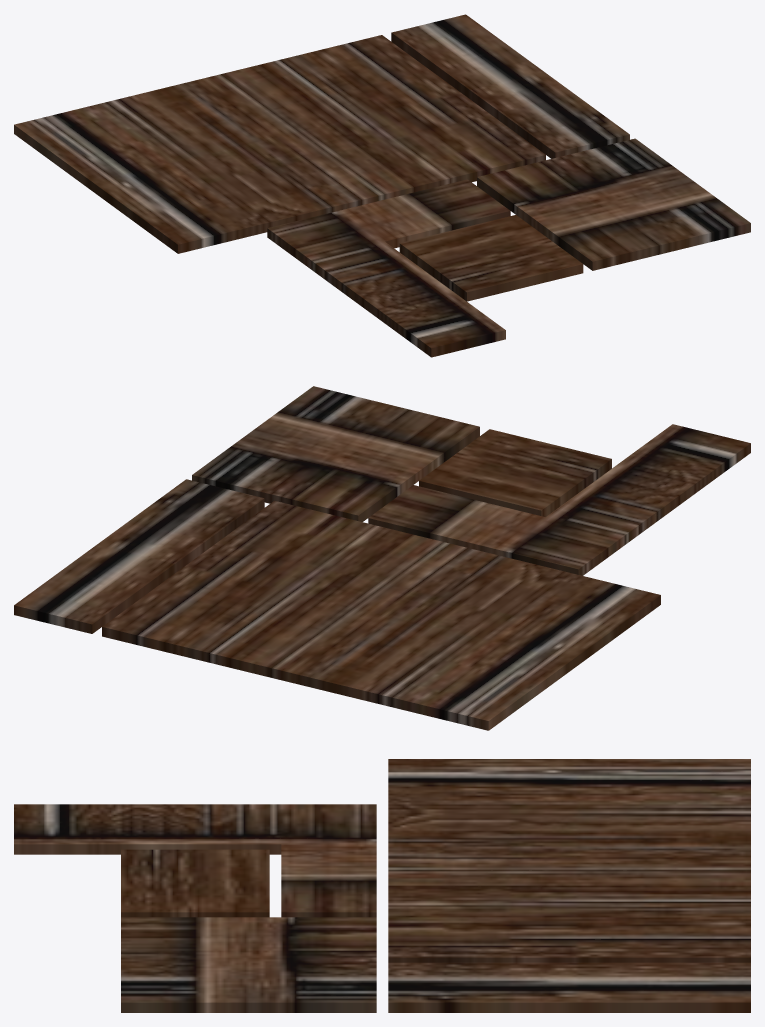
Rendered from HouseRoof.fbx.
3 renders of one model, top to bottom at view 1: azimuth 30°, elevation 25°; view 2: azimuth 150°, elevation 25°; view 3: azimuth 270°, elevation 25°, orthographic. The views are drawn at different scales.
Visible parts, largest first — view 1: Plane.001; view 2: Plane.001; view 3: Plane.001.
Boxes of the visible parts, <box> form: Plane.001: <box>14,14,750,357</box>; Plane.001: <box>14,386,750,730</box>; Plane.001: <box>14,759,750,1012</box>.
Size of the model in its own units: 1078 by 21.04 by 1378.
